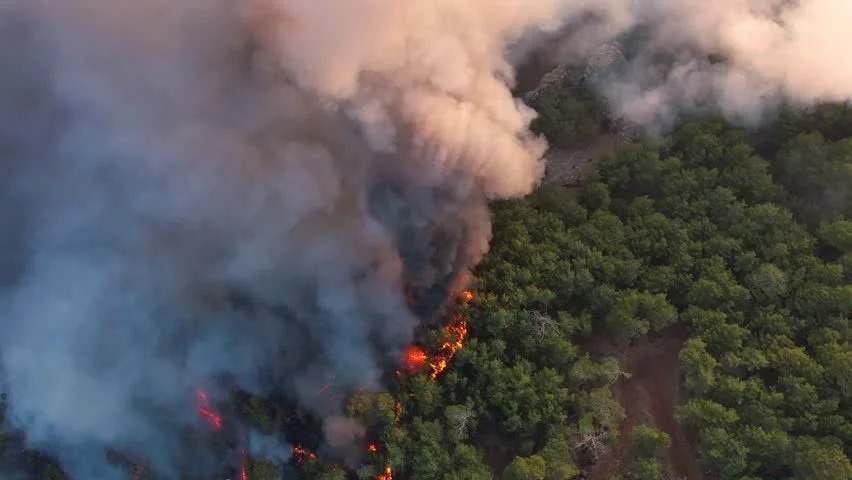forest_fire: (401, 289, 474, 380), (196, 387, 220, 429), (374, 464, 393, 479)
